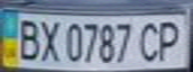0: (63, 19, 84, 63)
7: (112, 19, 136, 64), (78, 19, 100, 63)
8: (97, 20, 118, 64)
B: (12, 16, 42, 62)
C: (136, 18, 163, 63)
P: (154, 17, 187, 62)
X: (36, 16, 63, 63)
